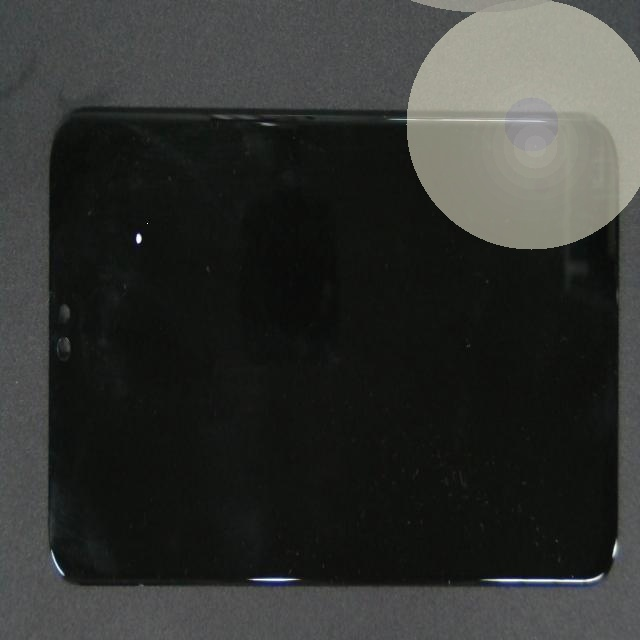stain: (57, 99, 196, 395)
